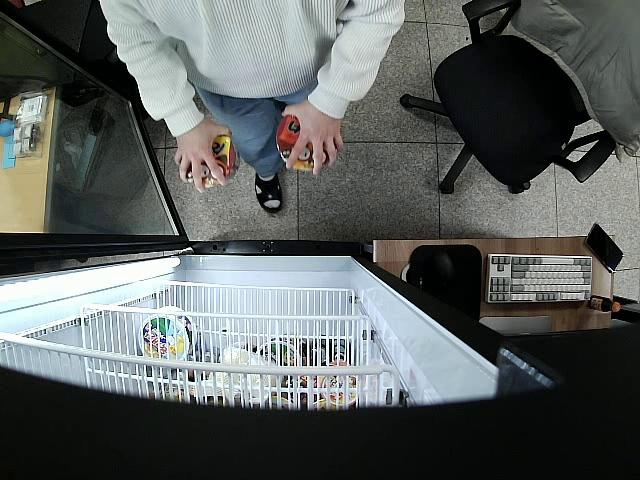00_hand: (281, 100, 346, 176), (172, 117, 234, 196)
05_nuguri_L: (275, 114, 333, 172), (185, 134, 241, 185)
